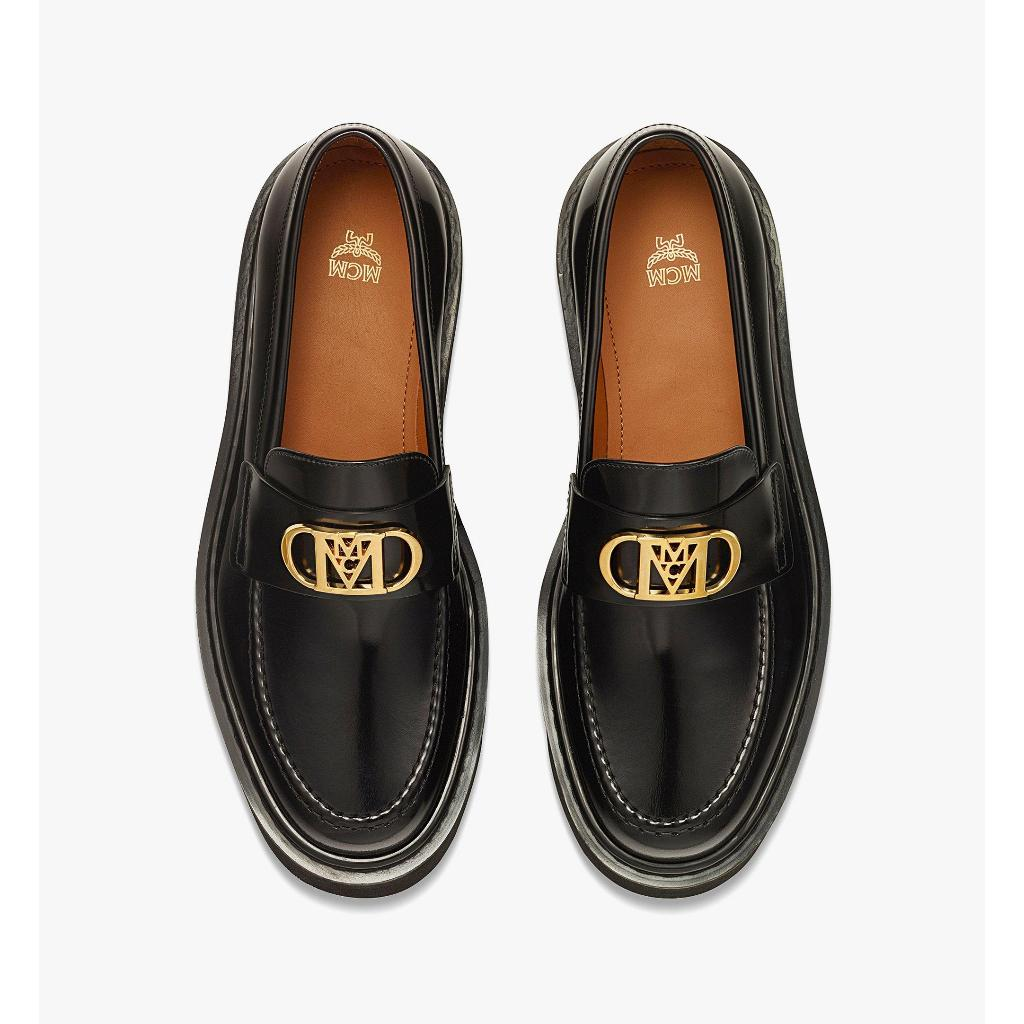loafers: (532, 126, 832, 901), (193, 124, 491, 899)
